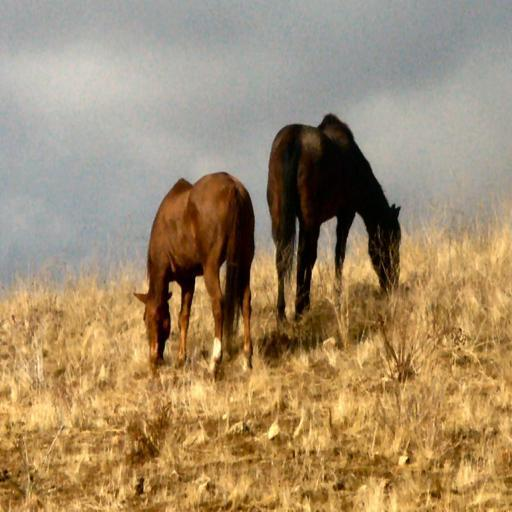horse: (265, 110, 402, 321), (131, 168, 252, 368)
